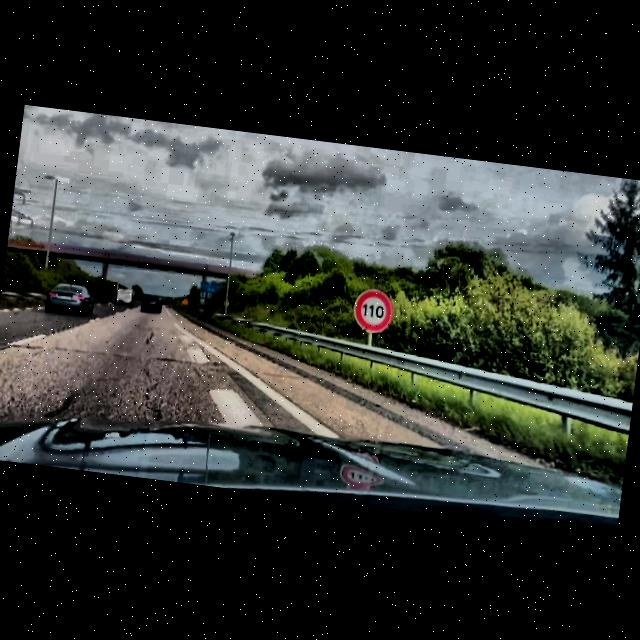speed_110: (352, 288, 394, 335)
